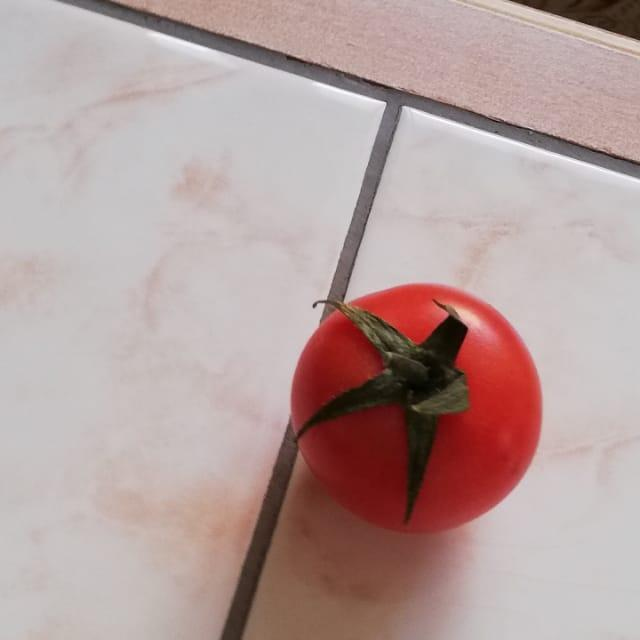tomato: (252, 249, 579, 553)
